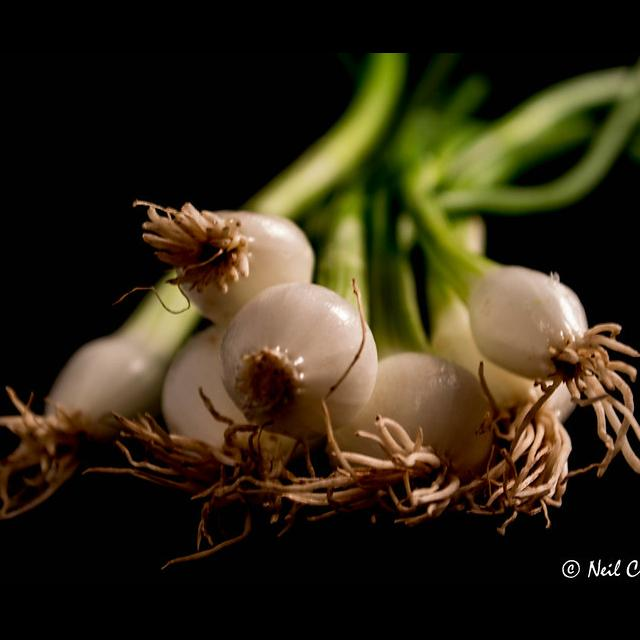green_onion: (0, 54, 640, 564), (0, 280, 200, 520), (220, 184, 378, 440), (256, 56, 406, 215), (135, 202, 314, 326)
